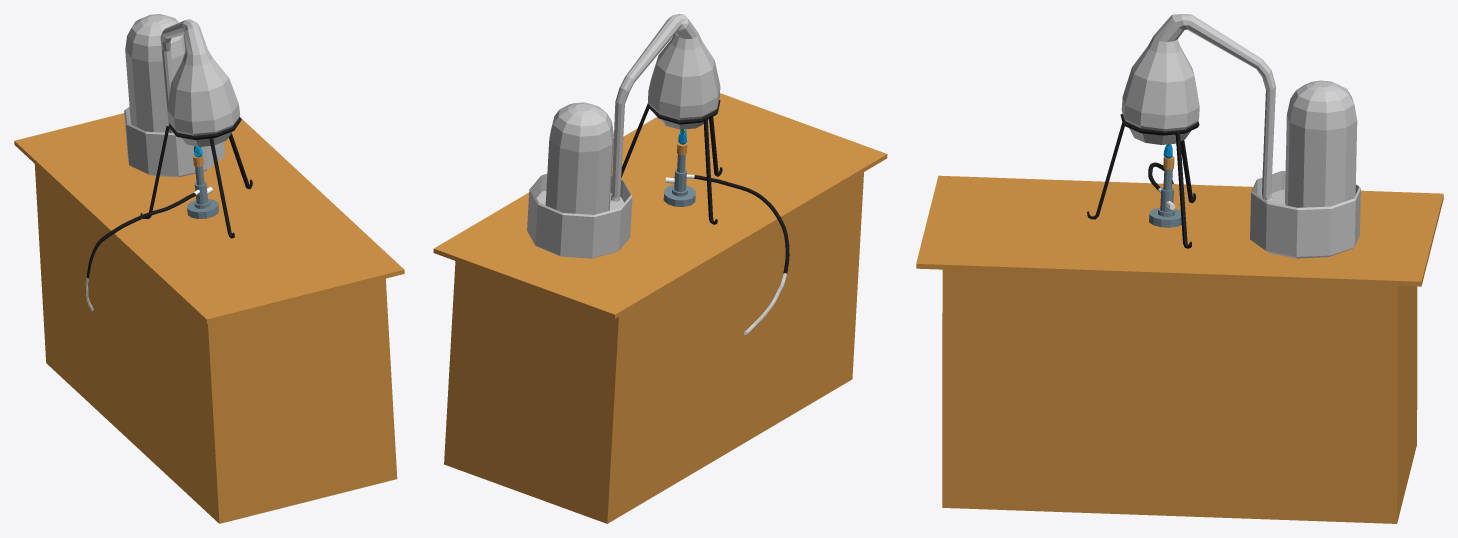
3 views of the same model, side by side, from view 1: azimuth 30°, elevation 25°; view 2: azimuth 150°, elevation 25°; view 3: azimuth 270°, elevation 25° (orthographic). The views are drawn at different scales.
Visible parts, largest first — view 1: mesh_1412540574, mesh_1321169551, mesh_316721406, mesh_496682563, group_2068460844, mesh_387404540; view 2: mesh_1412540574, mesh_1321169551, mesh_316721406, mesh_496682563, group_2068460844, mesh_16245820; view 3: mesh_1412540574, mesh_1321169551, mesh_316721406, mesh_496682563, mesh_1830734769.
Part boxes in pixels (bbox=[...]): mesh_1412540574: bbox=[14, 113, 404, 523]; mesh_1321169551: bbox=[160, 19, 240, 146]; mesh_316721406: bbox=[125, 14, 185, 132]; mesh_496682563: bbox=[124, 106, 224, 177]; group_2068460844: bbox=[85, 193, 195, 311]; mesh_387404540: bbox=[209, 138, 234, 238]; mesh_1412540574: bbox=[433, 93, 887, 523]; mesh_1321169551: bbox=[610, 14, 720, 201]; mesh_316721406: bbox=[545, 102, 613, 214]; mesh_496682563: bbox=[527, 174, 632, 258]; group_2068460844: bbox=[694, 175, 789, 334]; mesh_16245820: bbox=[703, 118, 717, 224]; mesh_1412540574: bbox=[916, 175, 1443, 523]; mesh_1321169551: bbox=[1121, 14, 1275, 200]; mesh_316721406: bbox=[1285, 80, 1357, 207]; mesh_496682563: bbox=[1250, 171, 1360, 258]; mesh_1830734769: bbox=[1175, 132, 1191, 248].
Size of the model in its own units: 112 by 187 by 197.
